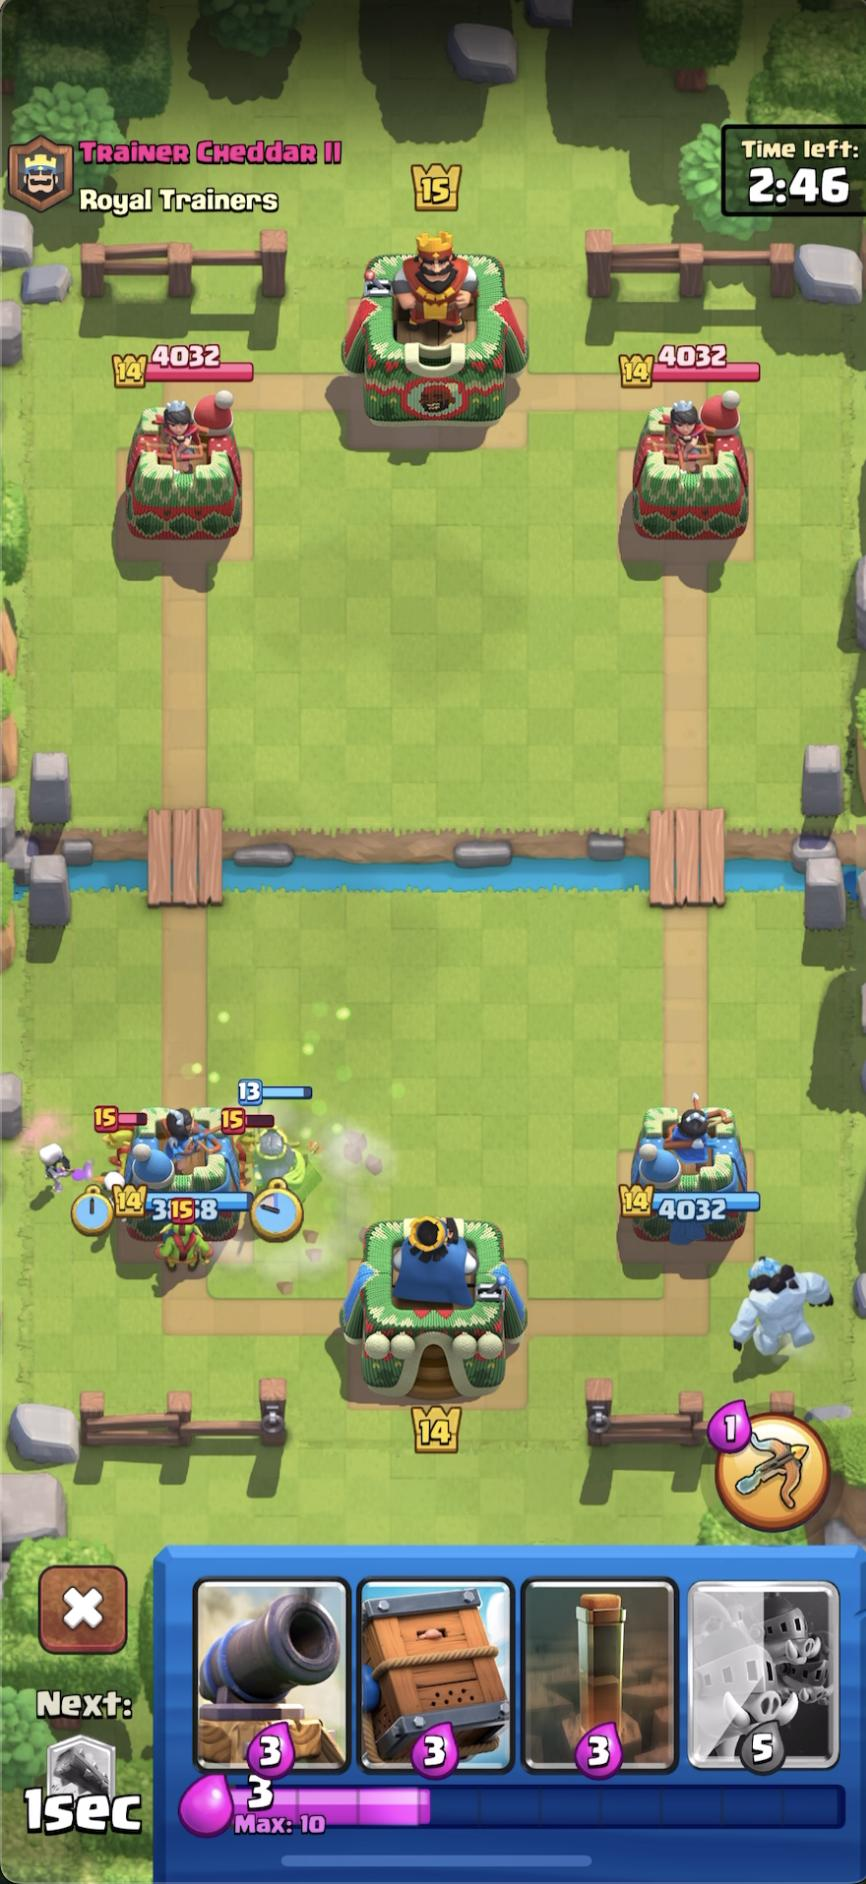elixir bar: (174, 1770, 359, 1846)
timer: (723, 120, 866, 214)
